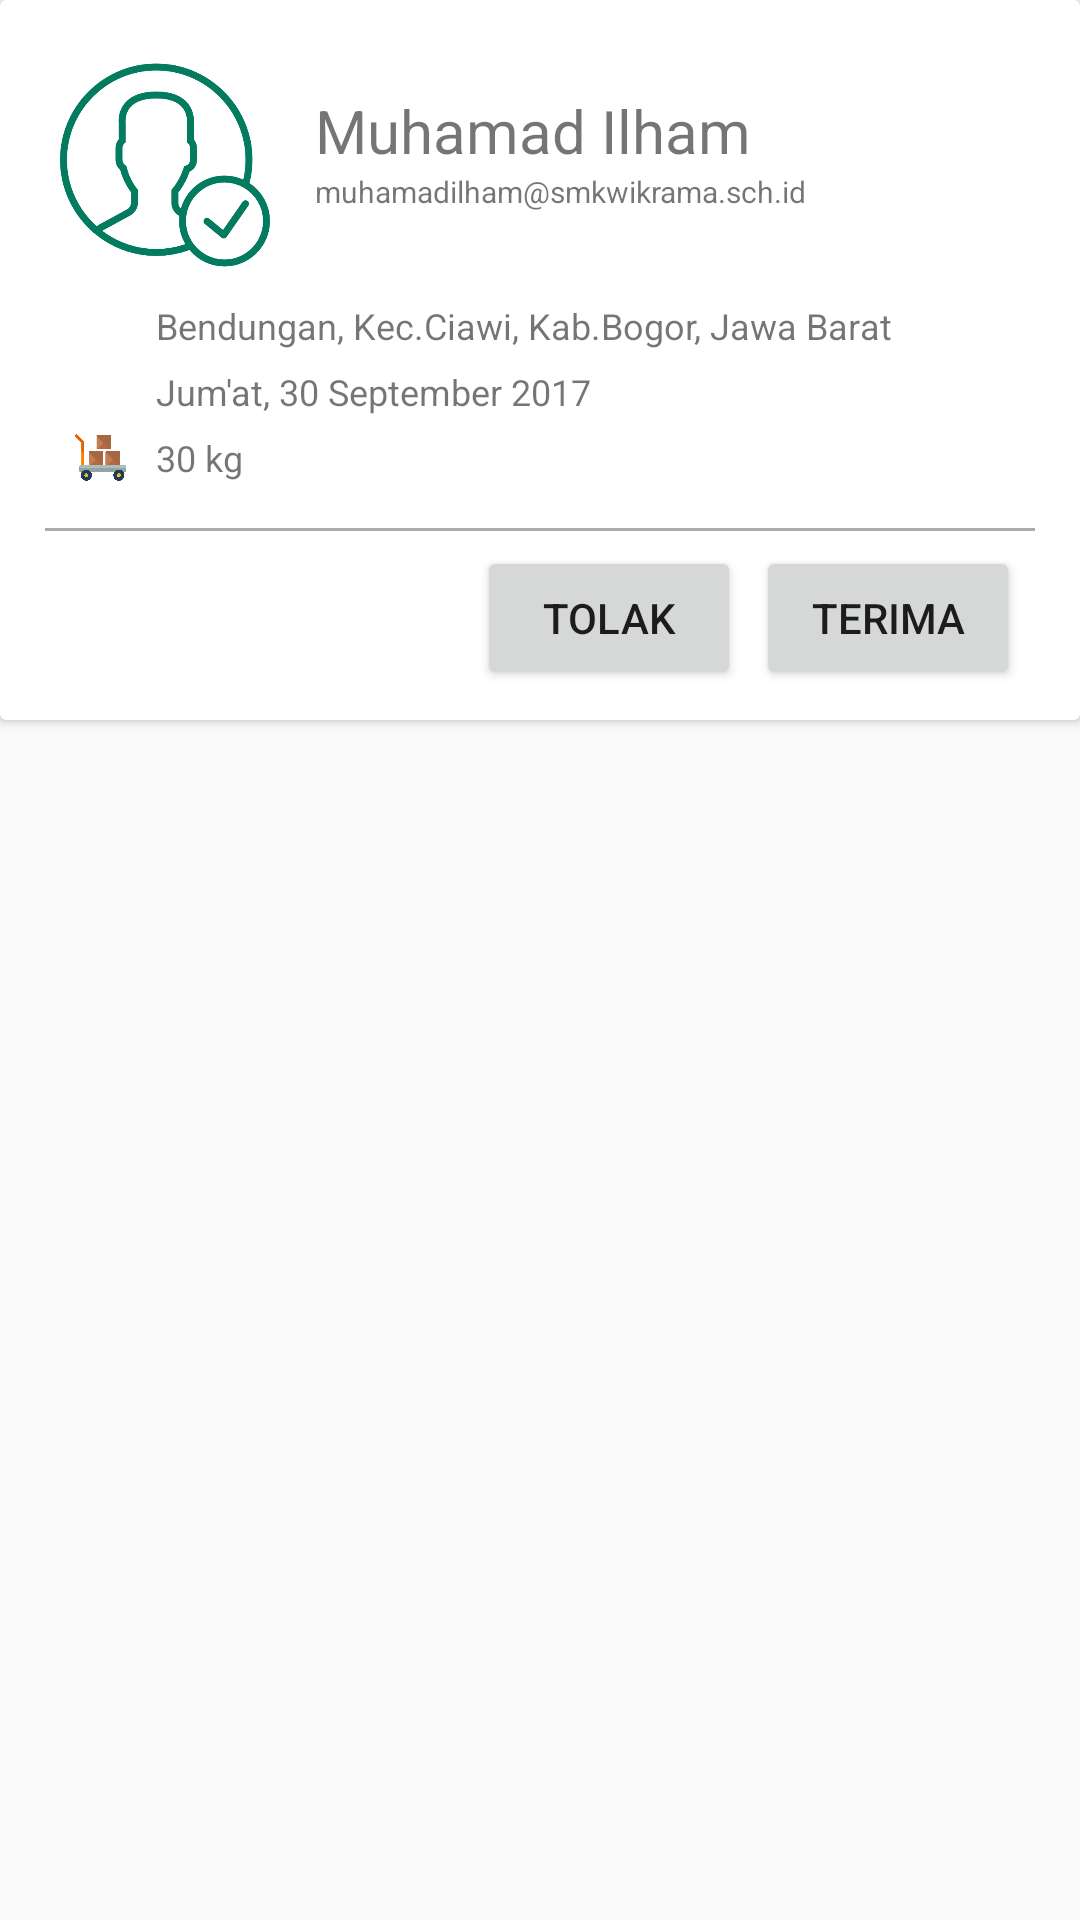

Named icons in this screenshot (1080px×1920px) and their bounding boxes, rect(x1, y1, x2, y2):
profile login: rect(60, 63, 270, 267)
